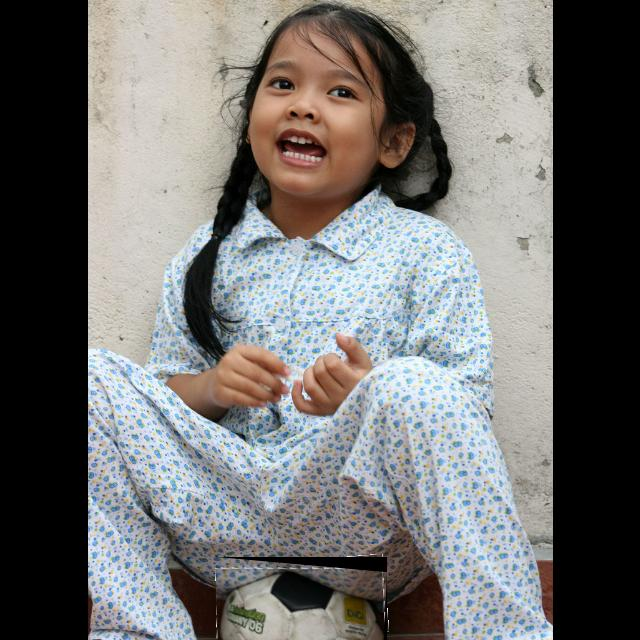Football: (216, 557, 387, 640)
